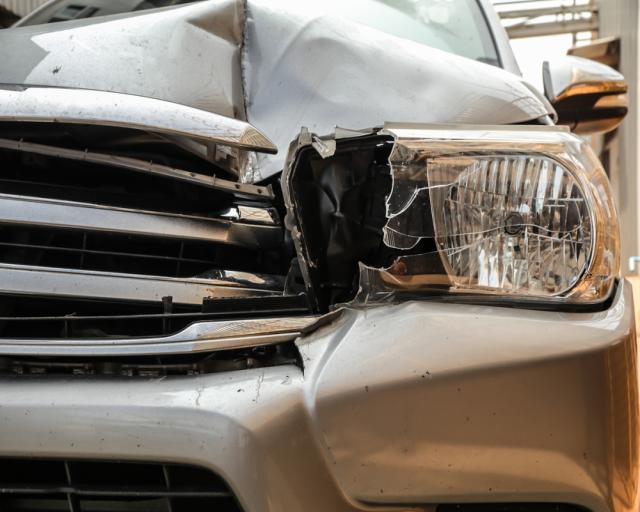crack: (294, 341, 305, 377)
dent: (183, 0, 441, 179)
lamp broken: (284, 120, 619, 310)
